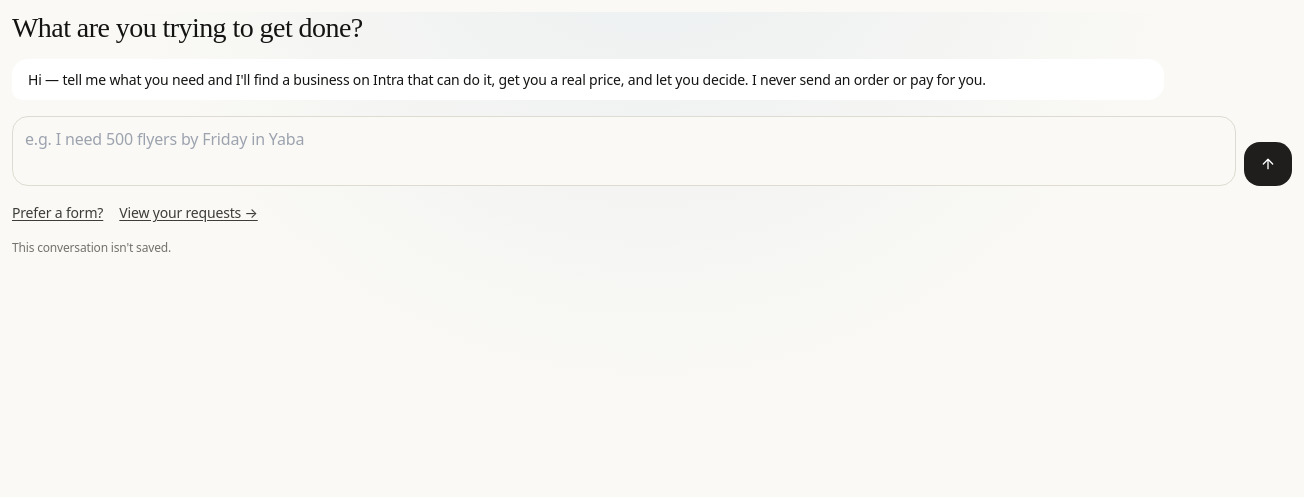
Test: ConversationView › 'Prefer a form?' secondary mode (frontend audit D6 / Priority 4) › swaps the composer for the structured form, and back again
Click the button "Prefer a form?": (58, 213) left=12, top=202, right=103, bottom=223
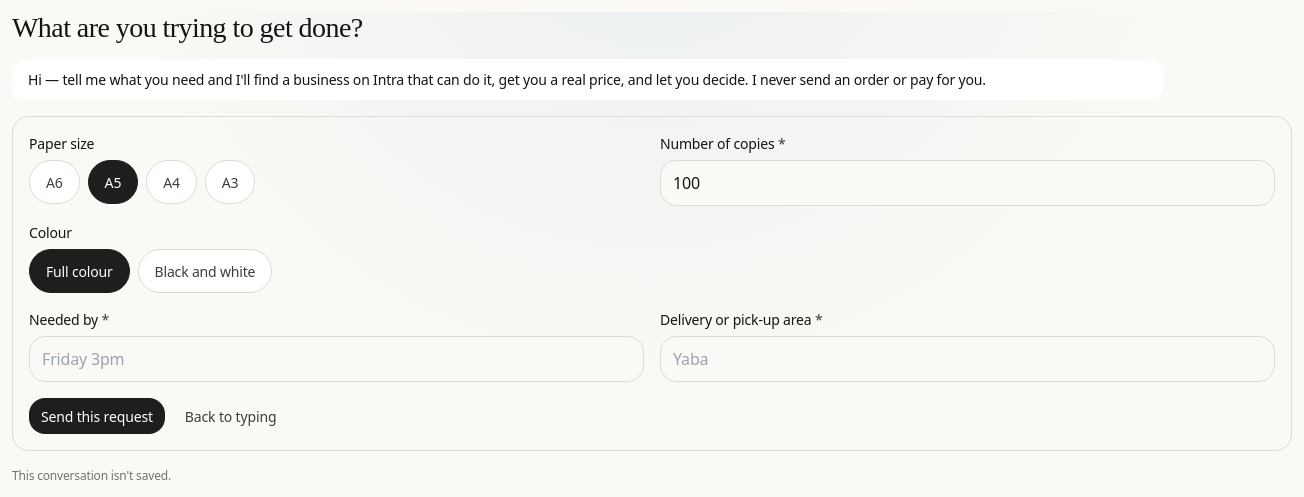
Expected: the field labelled "message" is not shown
Result: the button "Send this request" is shown at left=29, top=398, right=165, bottom=434
Click the button "Back to typing": (231, 416) left=173, top=398, right=288, bottom=434
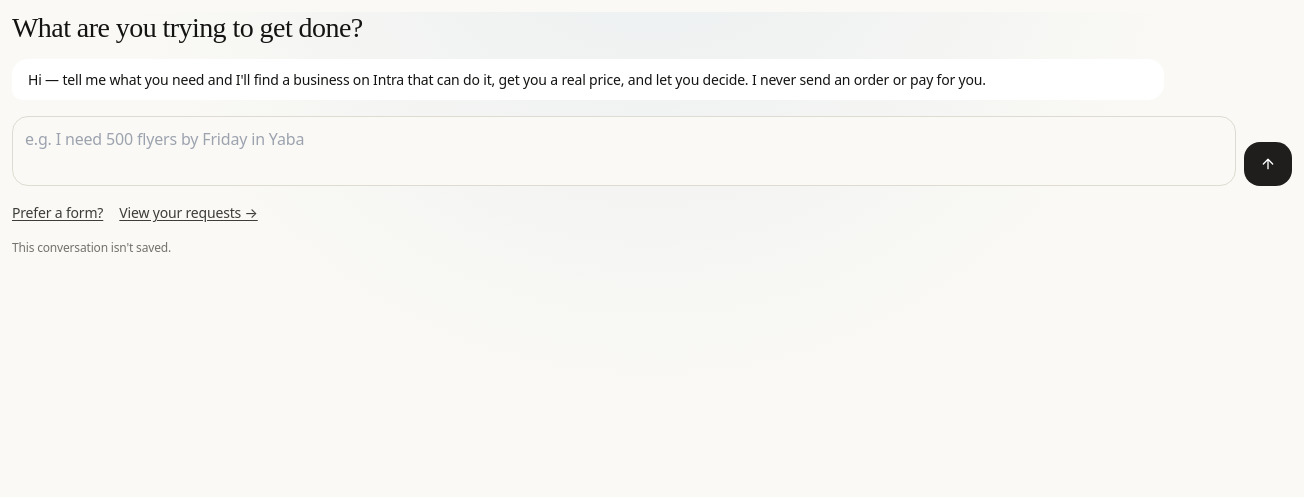
Result: the text box named "message" is shown at left=12, top=116, right=1236, bottom=186
